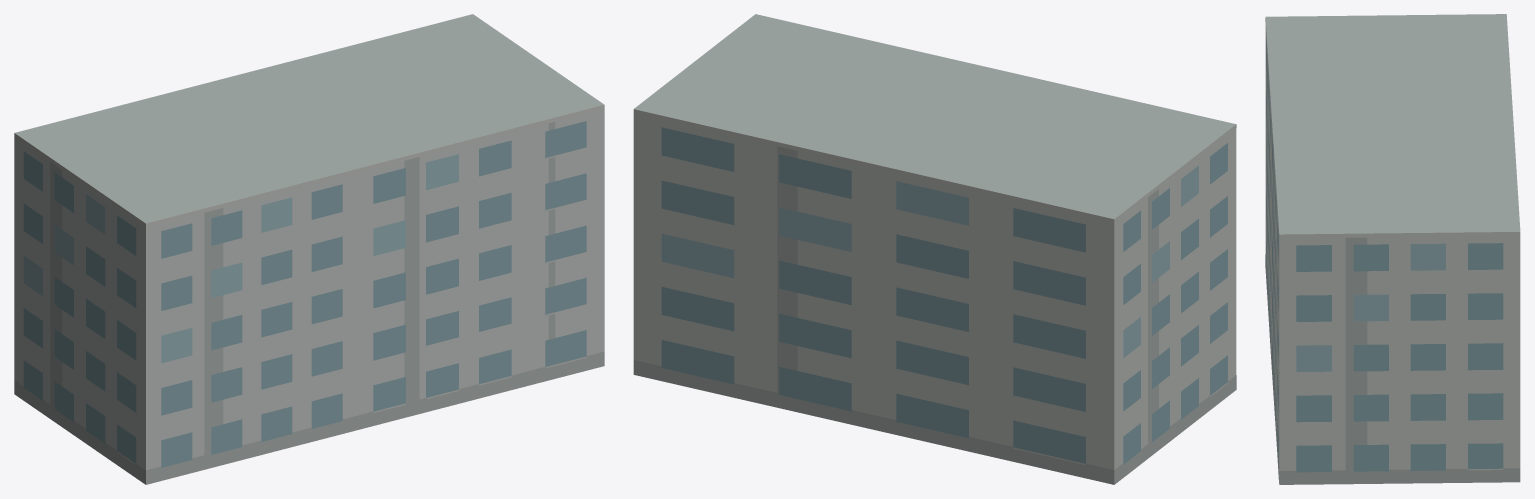
File: residential-8c034192-30db-4577-9f32-c39eba81f4b5.glb
The picture shows the model from 3 angles, left to right: view 1: azimuth 30°, elevation 25°; view 2: azimuth 150°, elevation 25°; view 3: azimuth 270°, elevation 25°; orthographic projection. The views are drawn at different scales.
Parts seen in each view (by area): view 1: residential-8c034192-30db-4577-9f32-c39eba81f4b5.tmp; view 2: residential-8c034192-30db-4577-9f32-c39eba81f4b5.tmp; view 3: residential-8c034192-30db-4577-9f32-c39eba81f4b5.tmp.
Boxes of the visible parts, x1=… form: residential-8c034192-30db-4577-9f32-c39eba81f4b5.tmp: x1=14, y1=14, x2=604, y2=484; residential-8c034192-30db-4577-9f32-c39eba81f4b5.tmp: x1=633, y1=14, x2=1236, y2=484; residential-8c034192-30db-4577-9f32-c39eba81f4b5.tmp: x1=1265, y1=14, x2=1520, y2=484.
Bounding box in the file's own units: 28.81 × 15.25 × 14.08.
